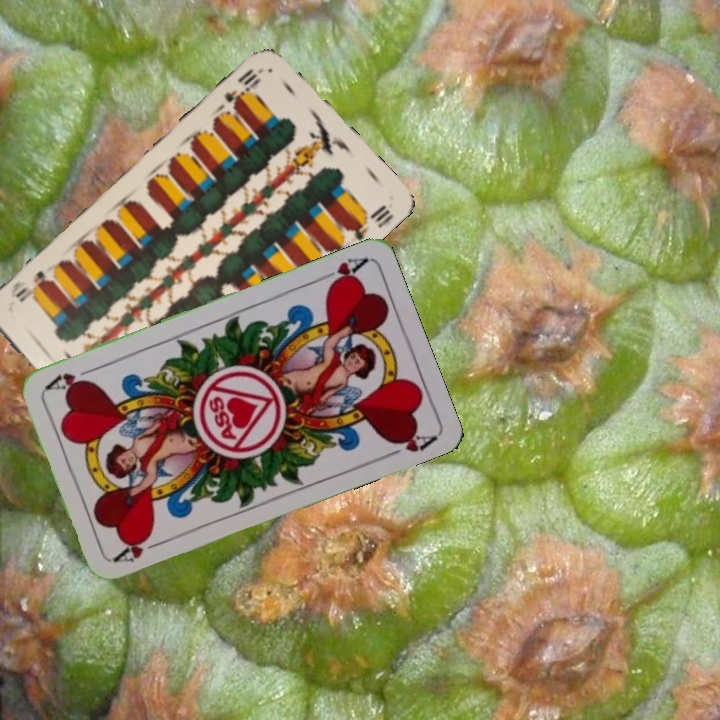E10: (219, 64, 264, 111)
HA: (313, 253, 369, 291), (110, 530, 167, 566)
